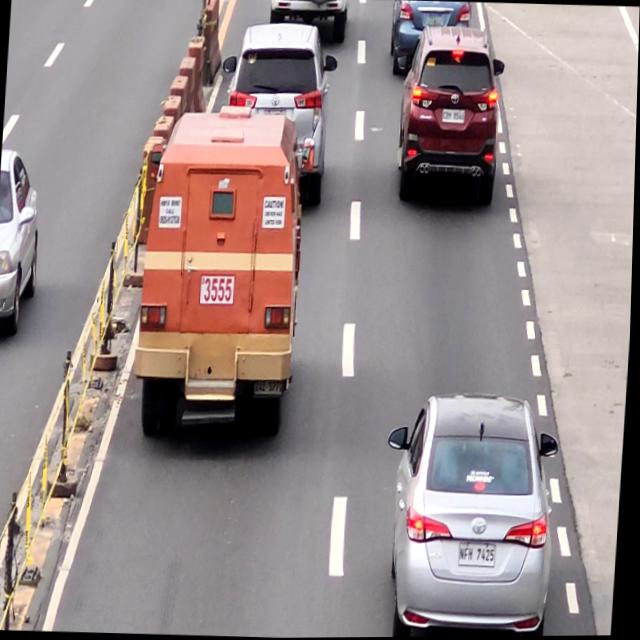Car: (132, 106, 312, 449), (379, 390, 564, 638), (215, 21, 340, 213), (390, 21, 507, 211), (388, 0, 470, 82)
License-Plate: (461, 545, 499, 567), (256, 378, 287, 396), (443, 108, 467, 124)
